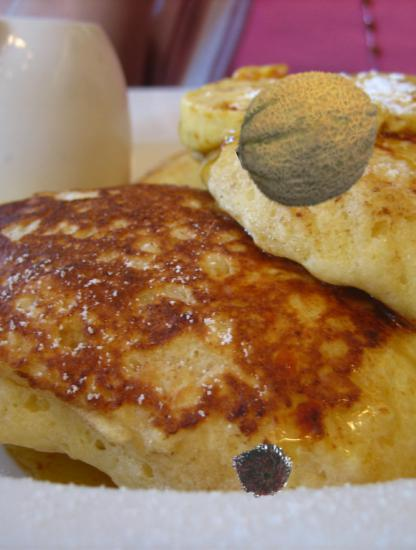Cantaloupe: (236, 64, 385, 213)
Rambutan: (228, 438, 292, 502)
